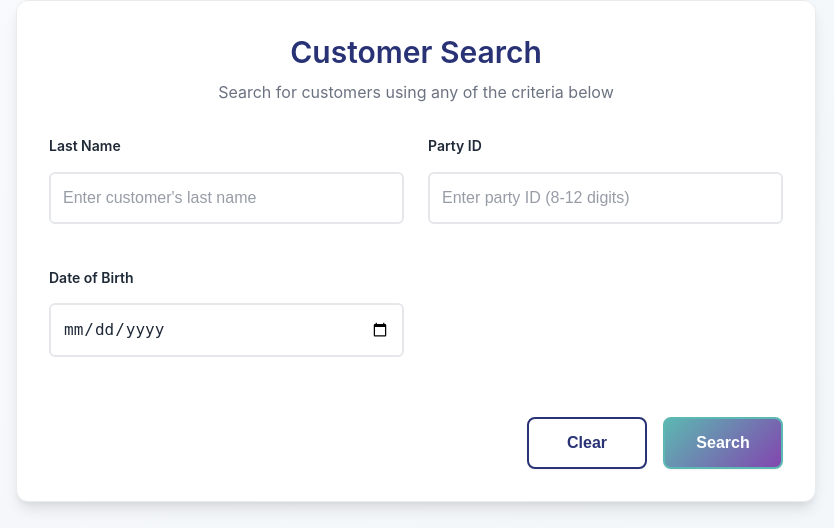
CustomerSearch Component › clears form when clear button is clicked
Note: Fill in the form
Type "Doe" into the field labelled "Last Name".
click(226, 198); type("Doe")  # box [49, 172, 404, 224]
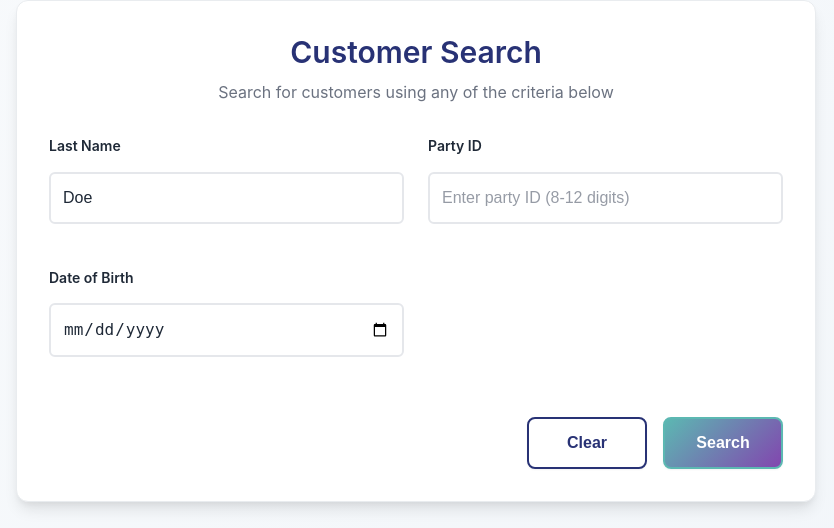
Type "123456789" into the field labelled "Party ID".
click(606, 198); type("123456789")  # box [428, 172, 783, 224]
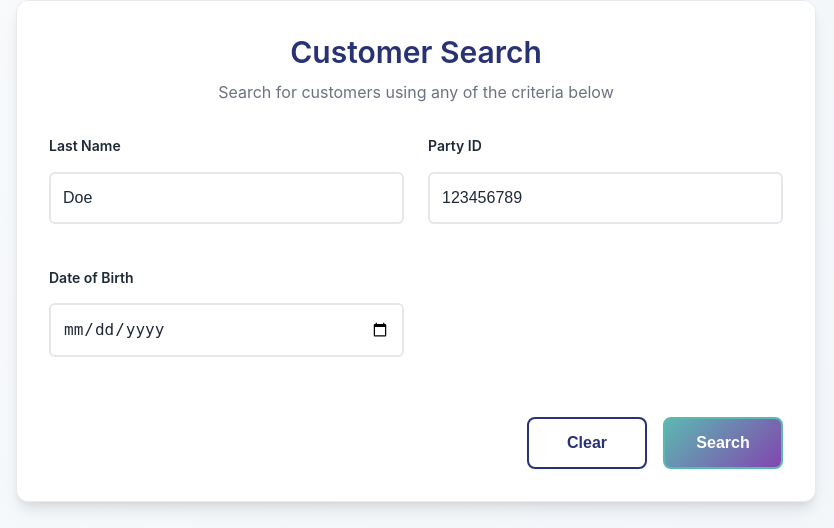
Type "1990-01-01" into the date field labelled "Date of Birth".
click(226, 330); type("1990-01-01")  # box [49, 303, 404, 357]
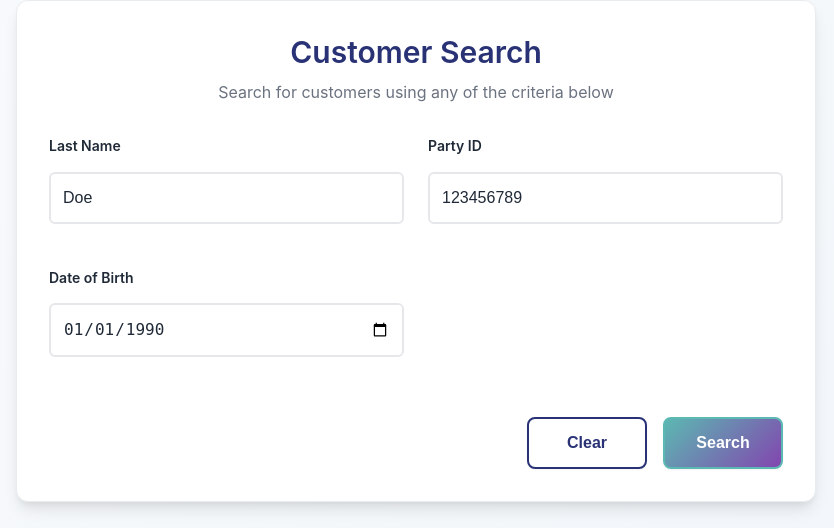
Note: Clear the form
Click the button "Clear".
click(587, 443)  # box [527, 417, 647, 469]
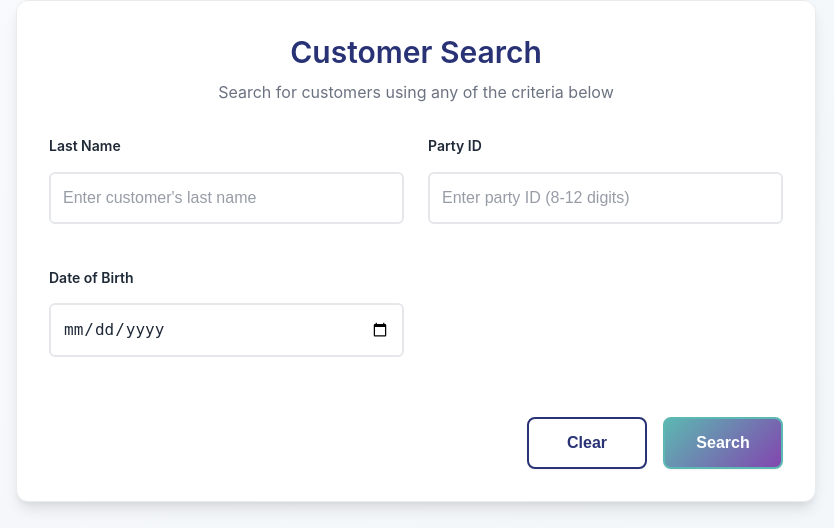
Check: the field labelled "Last Name" is empty, box [49, 172, 404, 224]
Check: the field labelled "Party ID" is empty, box [428, 172, 783, 224]
Check: the date field labelled "Date of Birth" is empty, box [49, 303, 404, 357]
